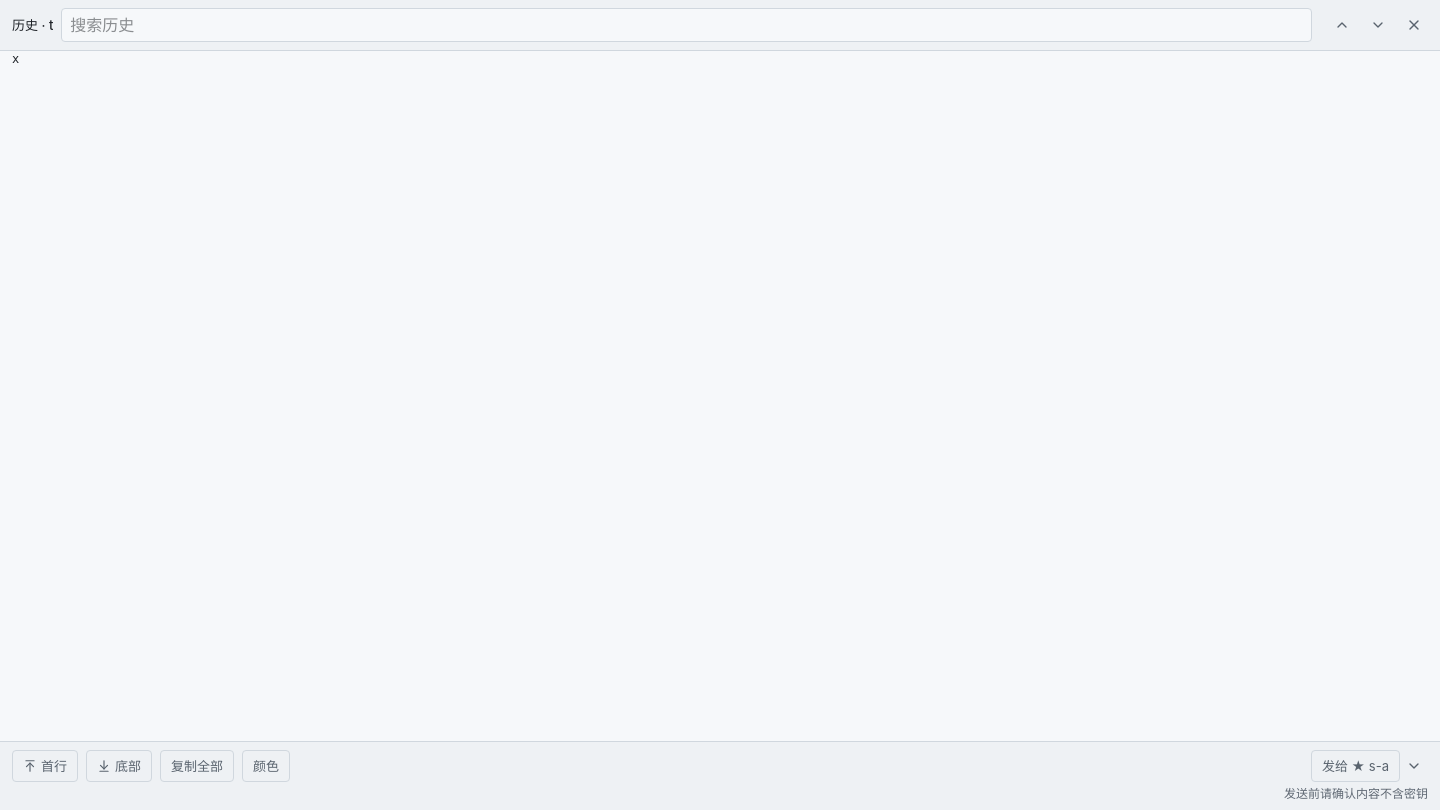
it: HistoryView › target socket not open when the window elapses → 未连接,未发送
This screenshot has width=1440, height=810.
Expected: the text "x" is shown, [12,52,19,66]
What coordinates should you click on to do the following:
click the button with aria-label "发给 s-a"
I would click on:
 (1356, 766)
Its box is [1311,750,1400,782].
Wait 3000 ms
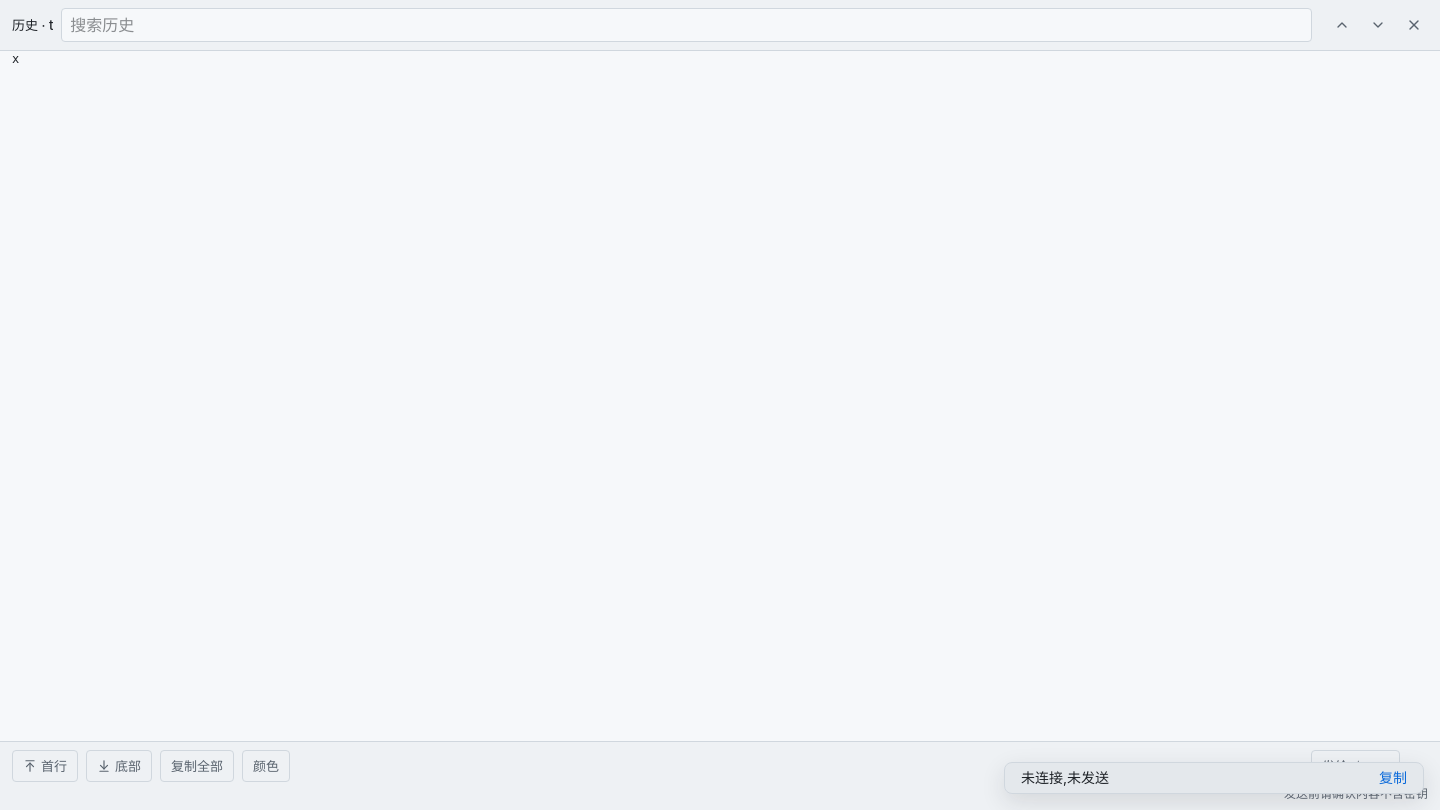
Expected: the text "未连接,未发送" is shown, [1021,769,1109,786]
